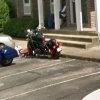Motorcycle: (22, 20, 62, 72)
